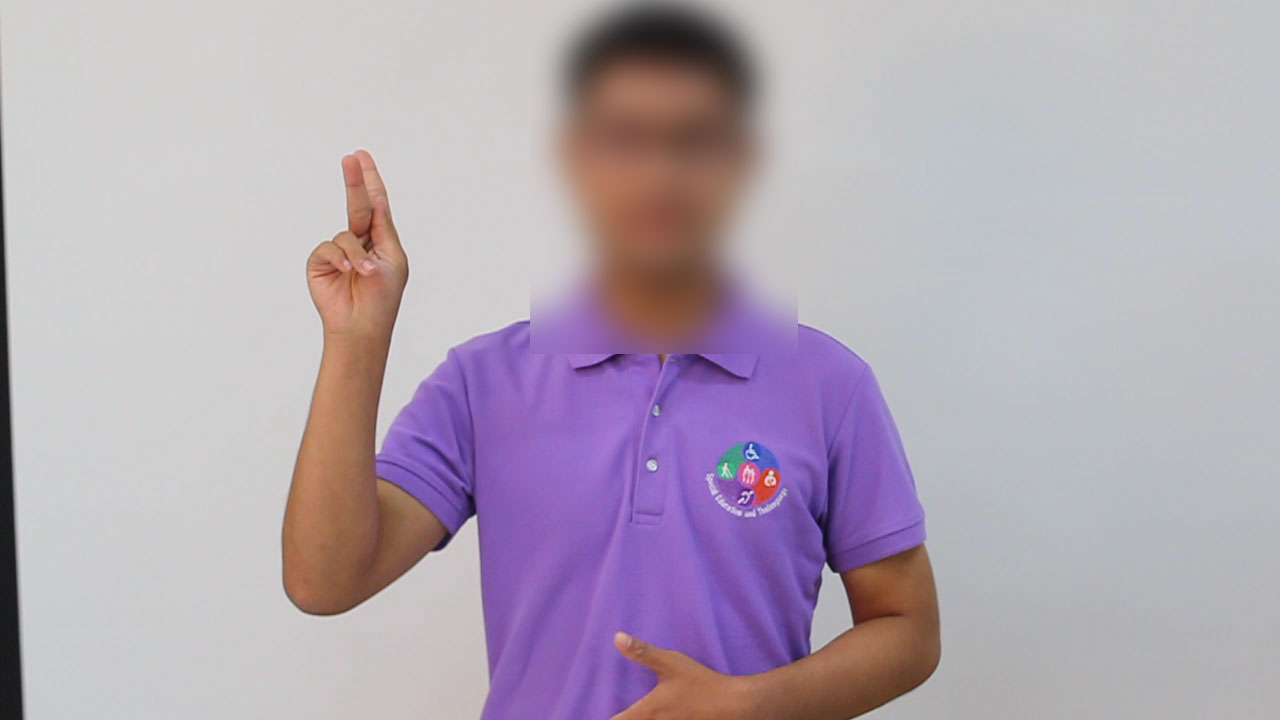ko: (267, 138, 454, 369)
